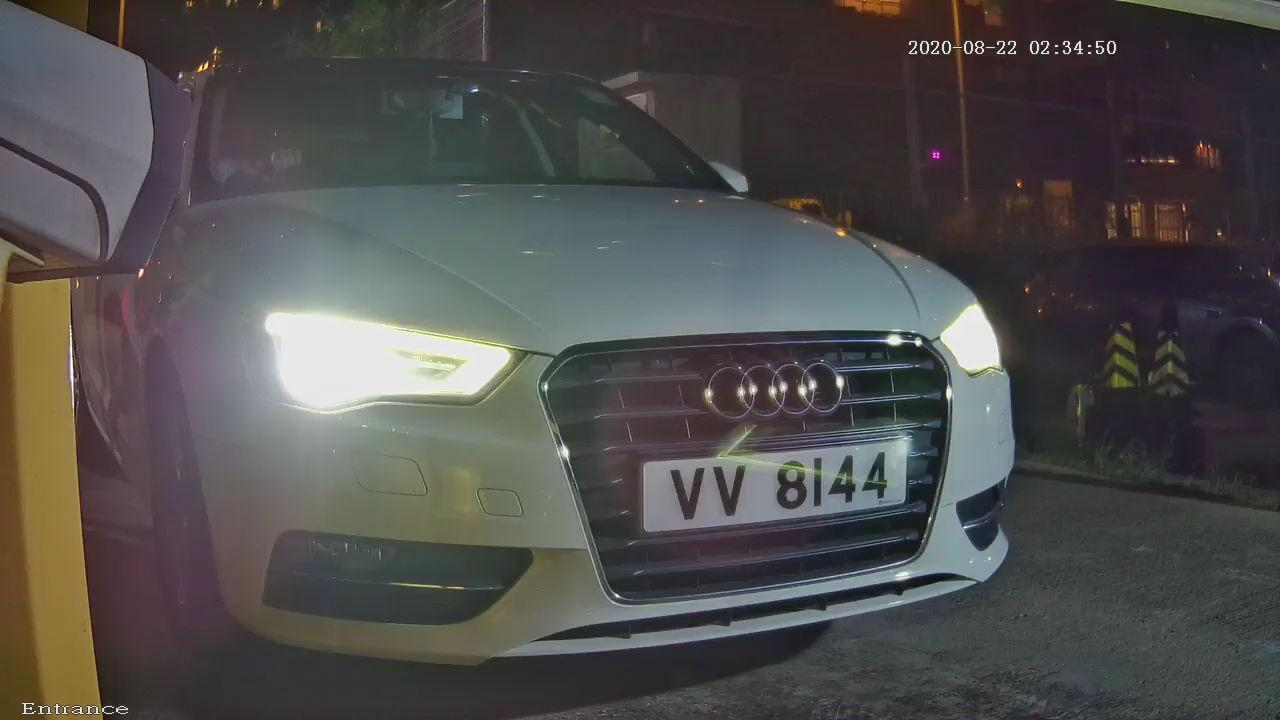Car: (41, 13, 1103, 692)
License Plate: (623, 434, 915, 537)
